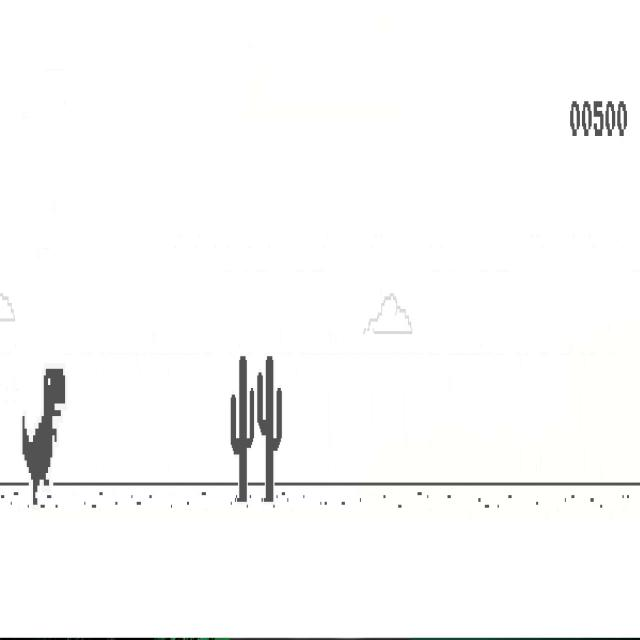cacto: (256, 354, 283, 503), (230, 354, 255, 503)
dino: (21, 368, 66, 506)
